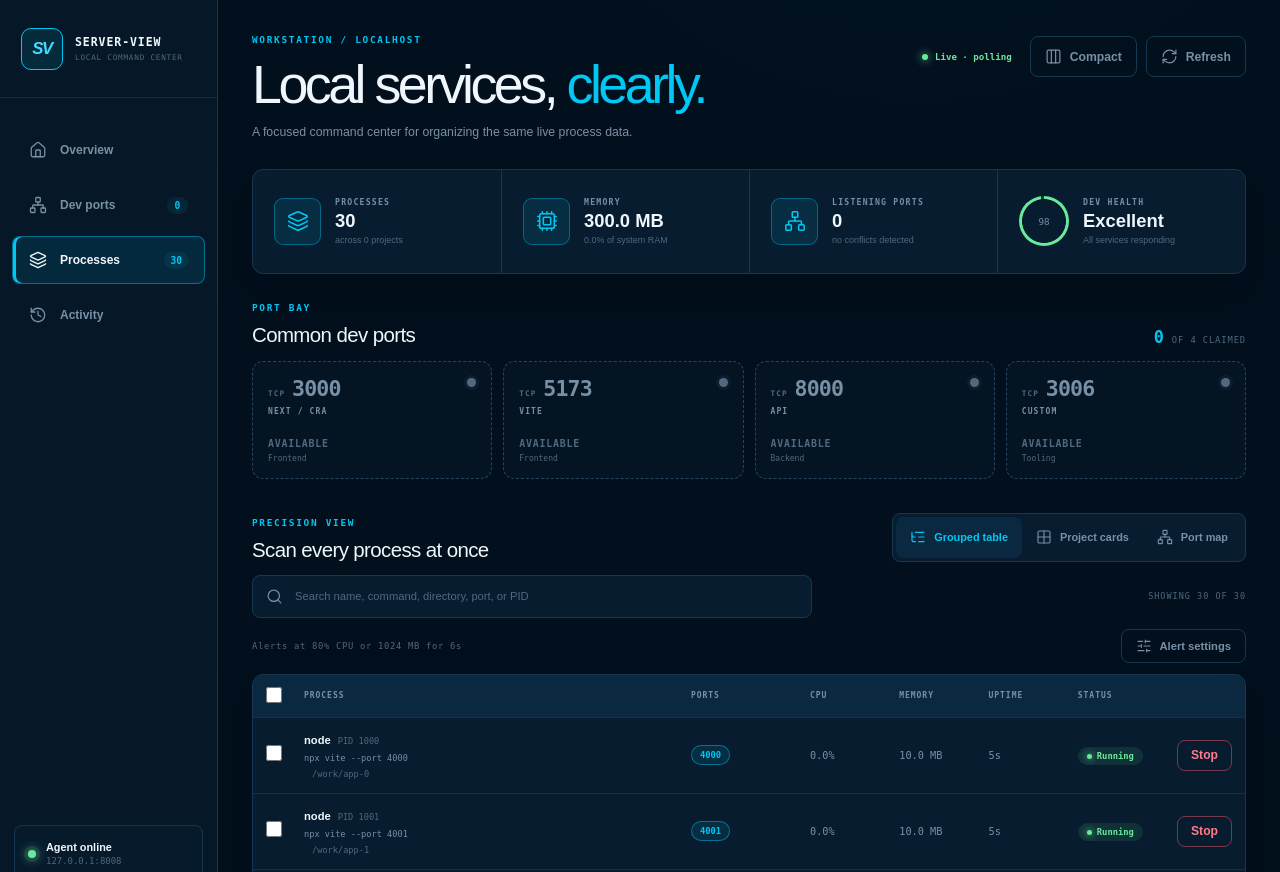
Test: App › bulk stop › reports the processes of a rejected batch as failed and keeps them for a retry
Expected: the text "npx vite --port 4000" is shown, left=304, top=753, right=408, bottom=763
Click the checkbox named "Select all shown processes" at (274, 695), box left=266, top=687, right=282, bottom=703
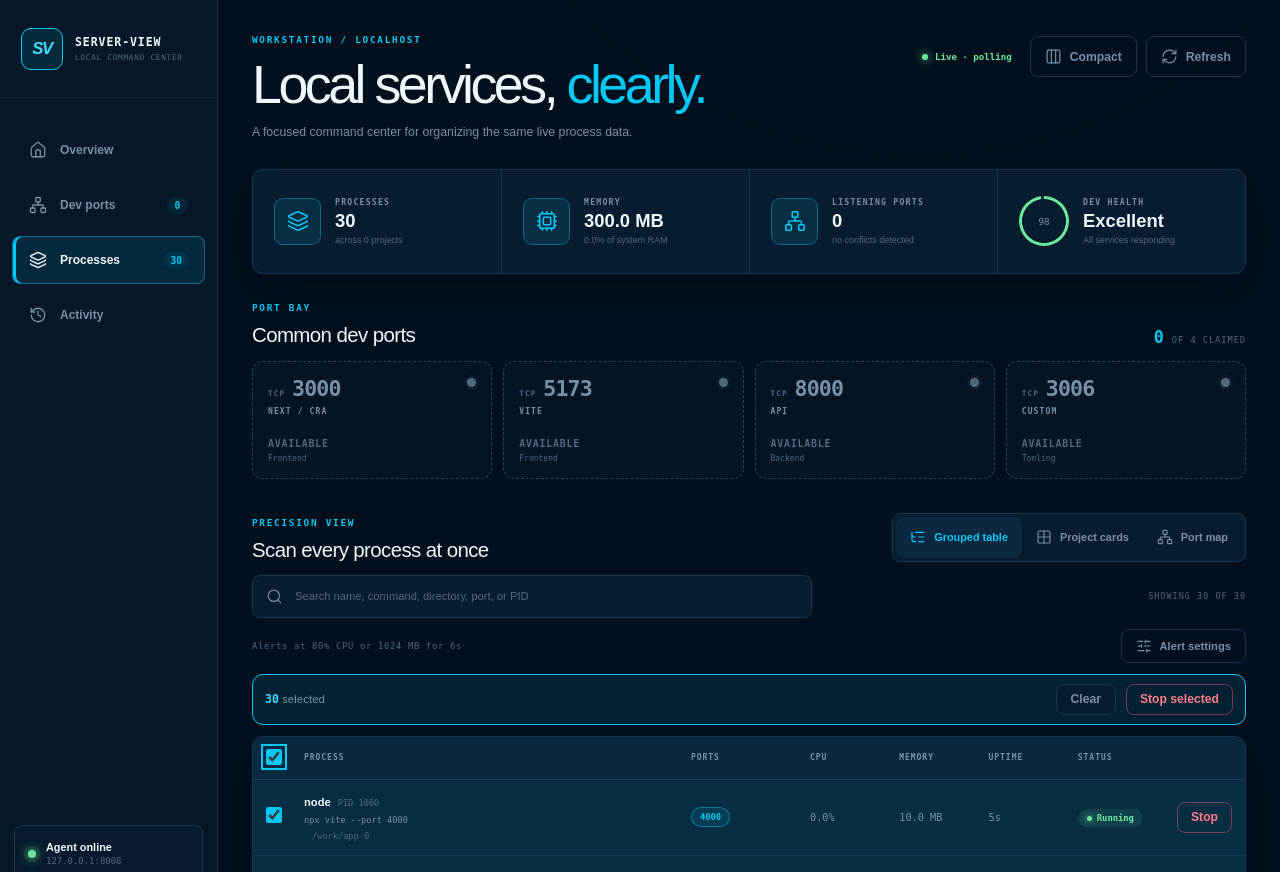
Click the button "Stop selected" at (1180, 699), box left=1126, top=684, right=1233, bottom=715
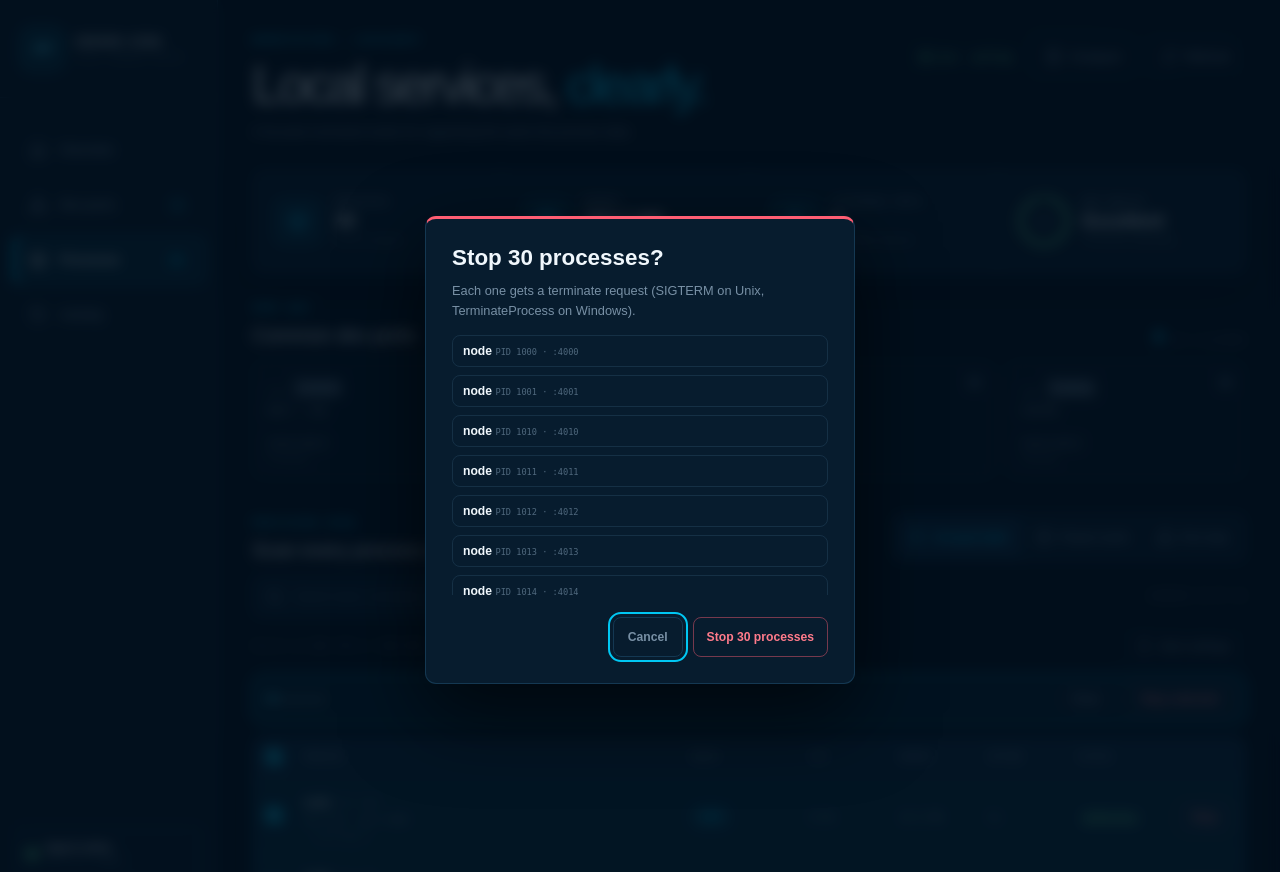
Click the button "Stop 30 processes" at (760, 638), box left=693, top=618, right=828, bottom=658
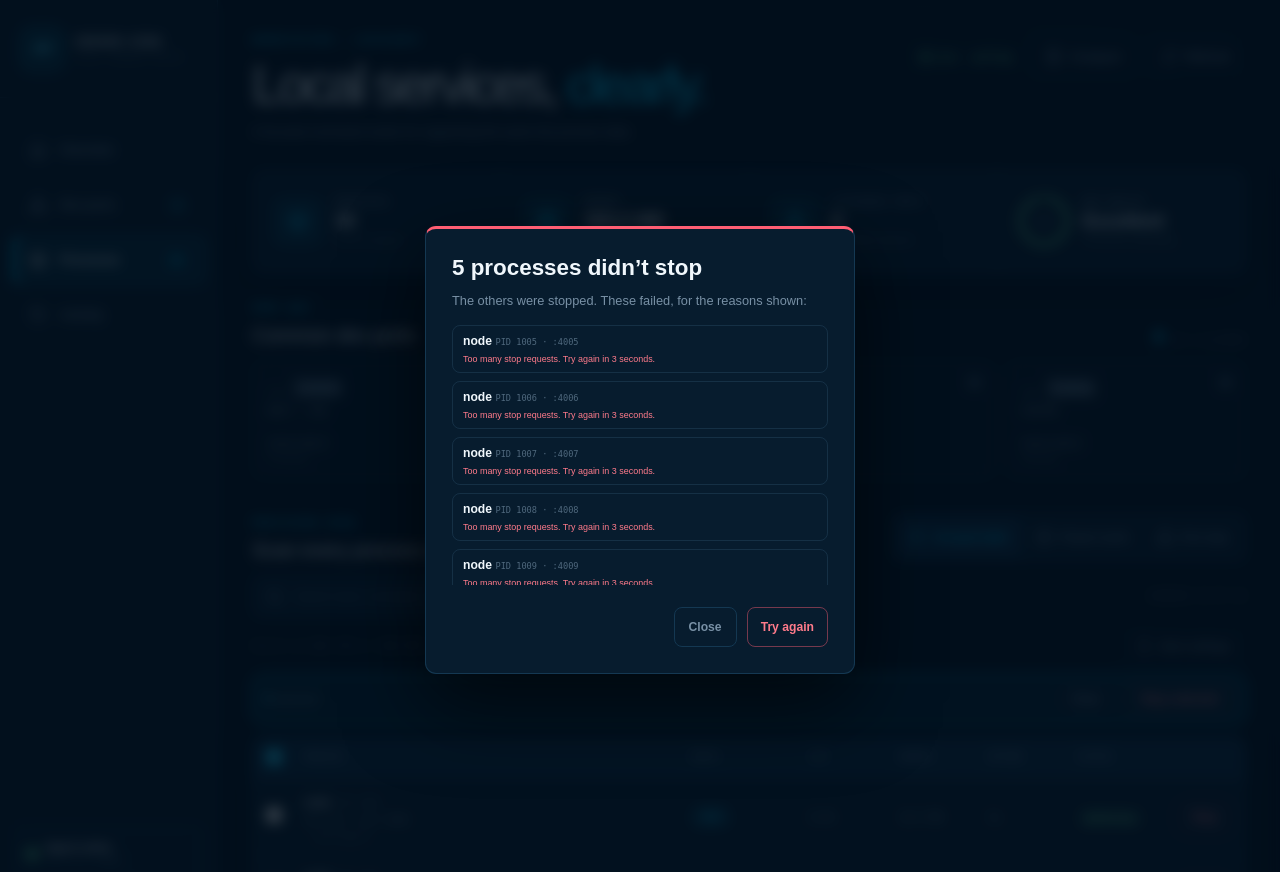
Expected: the text "Too many stop requests. Try again in 3 seconds." is shown 5 times, left=463, top=354, right=655, bottom=364; left=463, top=410, right=655, bottom=420; left=463, top=466, right=655, bottom=476; left=463, top=522, right=655, bottom=532; left=463, top=578, right=655, bottom=585
